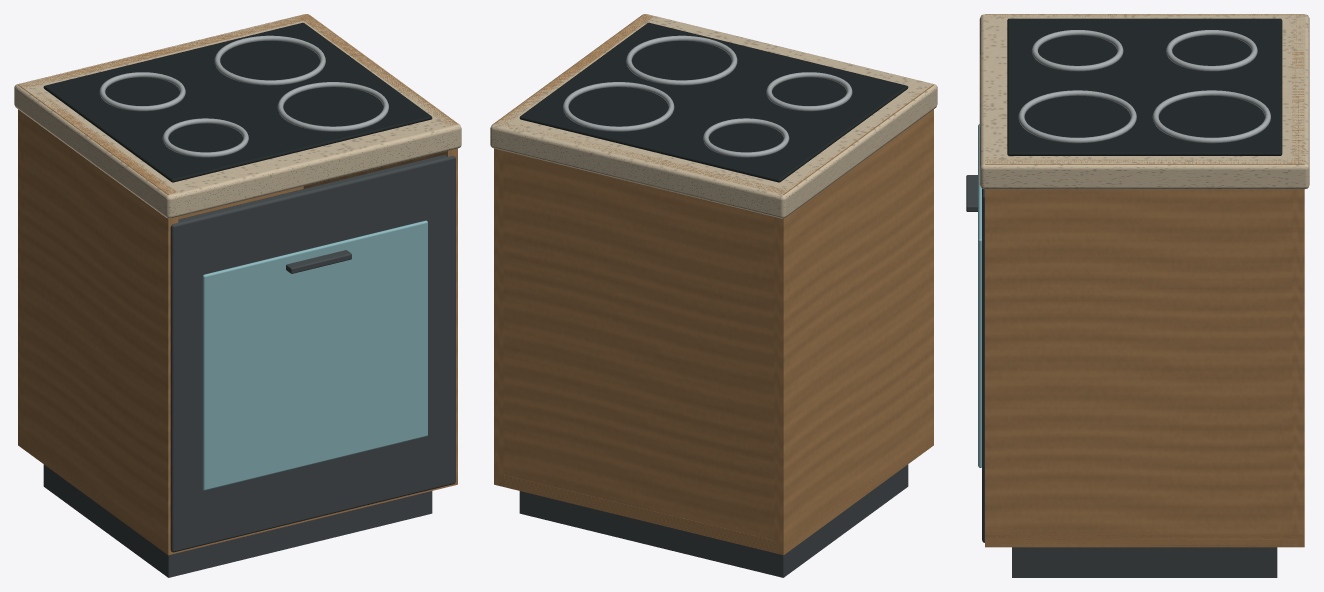
Rendered from stove_campus-3bef74eee029.glb.
3 renders of one model, left to right at view 1: azimuth 30°, elevation 25°; view 2: azimuth 150°, elevation 25°; view 3: azimuth 270°, elevation 25°, orthographic. The views are drawn at different scales.
Parts seen in each view (by area): view 1: surface_oak, surface_graphite, surface_glass, surface_black, surface_terrazzo, surface_steel; view 2: surface_oak, surface_black, surface_terrazzo, surface_graphite, surface_steel; view 3: surface_oak, surface_black, surface_terrazzo, surface_graphite, surface_steel, surface_glass.
Part boxes in pixels (x1,y1,x2,y2): surface_oak: (18,14,457,555); surface_graphite: (43,154,455,577); surface_glass: (202,220,427,490); surface_black: (43,22,432,182); surface_terrazzo: (14,14,461,218); surface_steel: (99,35,388,157); surface_oak: (494,14,933,555); surface_black: (519,22,908,182); surface_terrazzo: (490,14,937,218); surface_graphite: (519,464,908,577); surface_steel: (563,35,852,157); surface_oak: (985,14,1304,547); surface_black: (1007,18,1282,155); surface_terrazzo: (979,14,1309,189); surface_graphite: (966,175,1277,577); surface_steel: (1018,30,1270,143); surface_glass: (978,124,981,467).
Size of the model in its own units: 0.704 by 0.9169 by 0.6663.
Materials: 6 (2 with a texture image).
